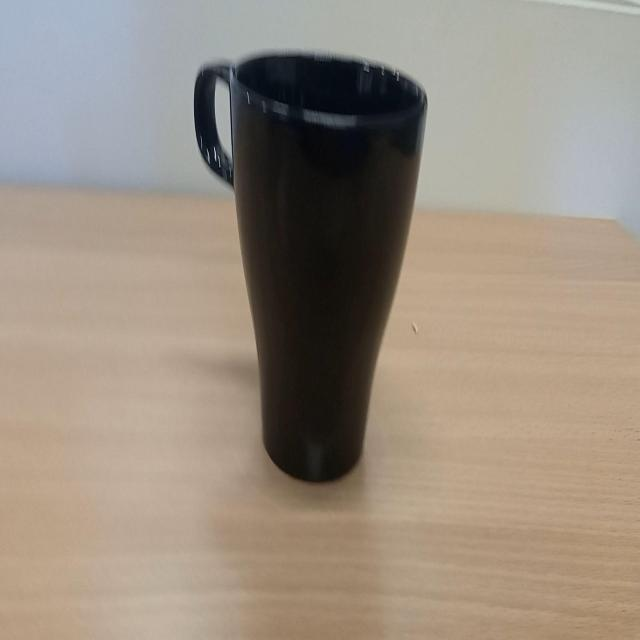cup: (190, 42, 432, 493)
